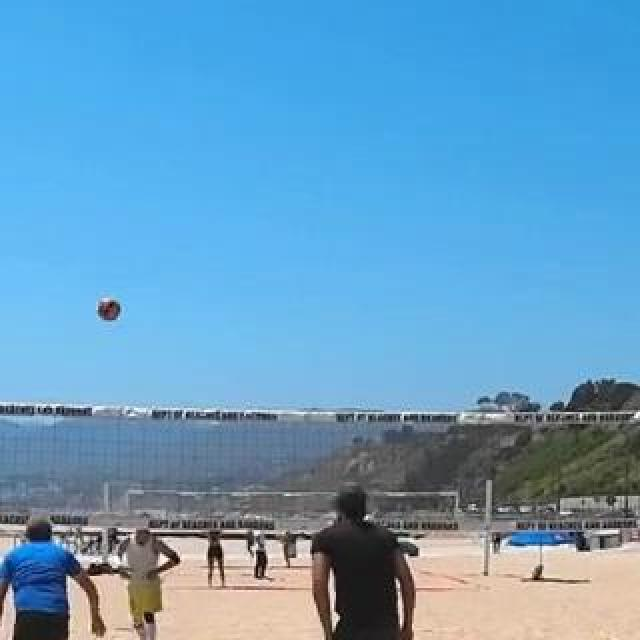volleyball: (98, 300, 122, 322)
